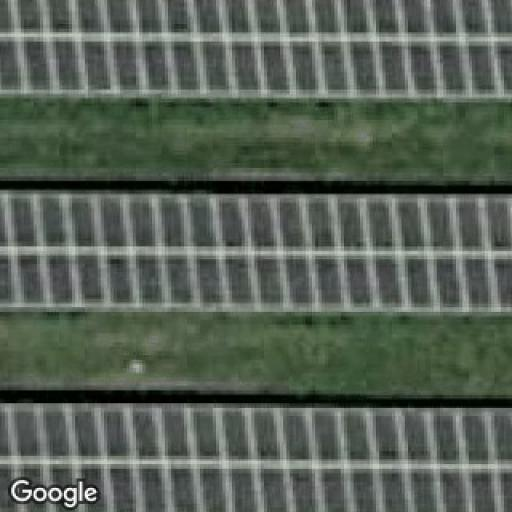solar-panel: (0, 187, 512, 314), (0, 401, 512, 512), (0, 0, 512, 104)
